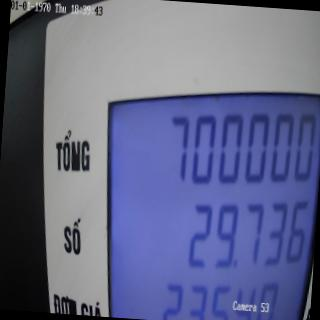screen: (86, 66, 320, 320)
